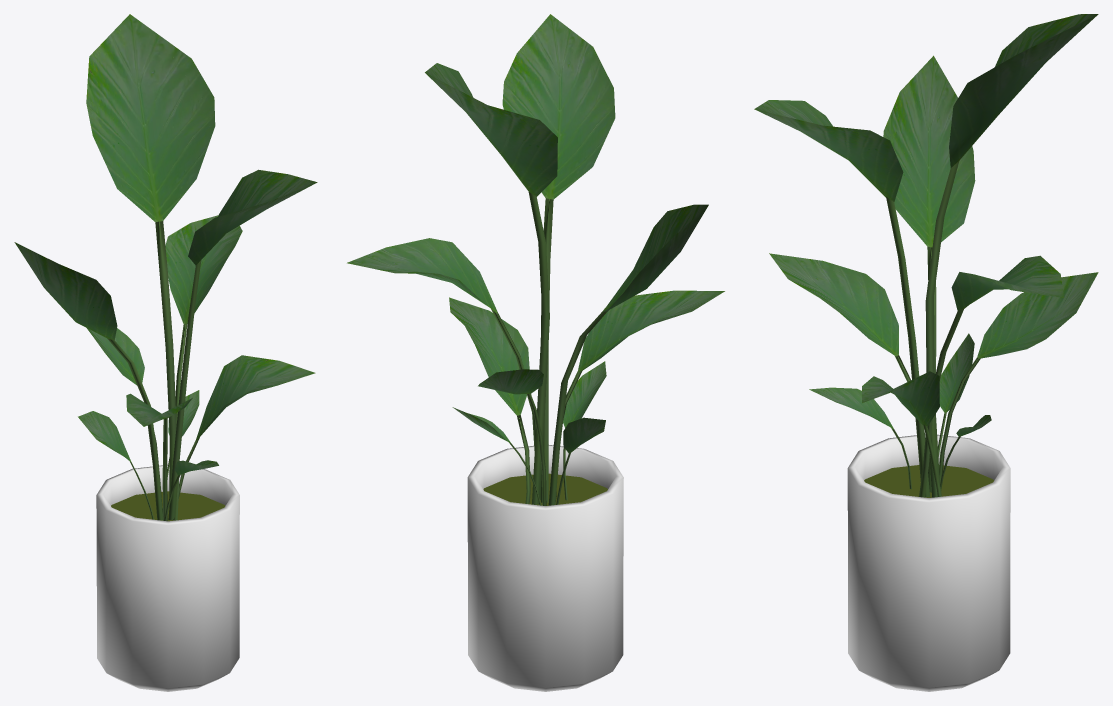
File: sketchfab-potted-plant-mediterranean-med-leaf-low-poly.b2e85f2f.glb
The picture shows the model from 3 angles, left to right: view 1: azimuth 30°, elevation 25°; view 2: azimuth 150°, elevation 25°; view 3: azimuth 270°, elevation 25°; orthographic projection. The views are drawn at different scales.
Visible parts, largest first — view 1: Object_4, Object_10, Object_8, Object_6, Object_24, Object_14, Object_26, Object_12, Object_16, Object_20, Object_18, Object_22; view 2: Object_4, Object_8, Object_10, Object_6, Object_24, Object_12, Object_14, Object_26, Object_16, Object_18, Object_20, Object_22; view 3: Object_4, Object_6, Object_10, Object_8, Object_12, Object_16, Object_24, Object_14, Object_26, Object_20, Object_18.
Part boxes in pixels (bbox=[...]): Object_4: bbox=[96, 464, 239, 691]; Object_10: bbox=[86, 14, 215, 497]; Object_8: bbox=[168, 169, 317, 519]; Object_6: bbox=[14, 242, 162, 520]; Object_24: bbox=[165, 215, 242, 520]; Object_14: bbox=[178, 355, 315, 498]; Object_26: bbox=[111, 491, 225, 521]; Object_12: bbox=[126, 393, 192, 521]; Object_16: bbox=[87, 328, 162, 513]; Object_20: bbox=[78, 411, 154, 519]; Object_18: bbox=[164, 460, 218, 520]; Object_22: bbox=[162, 390, 199, 511]; Object_4: bbox=[467, 445, 623, 691]; Object_8: bbox=[502, 14, 615, 502]; Object_10: bbox=[425, 63, 557, 504]; Object_6: bbox=[548, 204, 708, 505]; Object_24: bbox=[347, 238, 540, 499]; Object_12: bbox=[555, 290, 724, 501]; Object_14: bbox=[449, 297, 530, 503]; Object_26: bbox=[483, 473, 607, 505]; Object_16: bbox=[478, 369, 546, 505]; Object_18: bbox=[563, 361, 606, 500]; Object_20: bbox=[556, 417, 605, 504]; Object_22: bbox=[452, 407, 541, 505]; Object_4: bbox=[847, 434, 1010, 691]; Object_6: bbox=[883, 55, 975, 492]; Object_10: bbox=[925, 14, 1098, 497]; Object_8: bbox=[754, 100, 929, 497]; Object_12: bbox=[769, 253, 925, 438]; Object_16: bbox=[939, 272, 1098, 483]; Object_24: bbox=[919, 255, 1063, 497]; Object_14: bbox=[862, 371, 941, 496]; Object_26: bbox=[864, 465, 993, 497]; Object_20: bbox=[938, 333, 974, 457]; Object_18: bbox=[809, 387, 911, 489].
Bounding box in the file's own units: 0.6201 × 1.27 × 0.5909.
3 materials, 1 textured.
